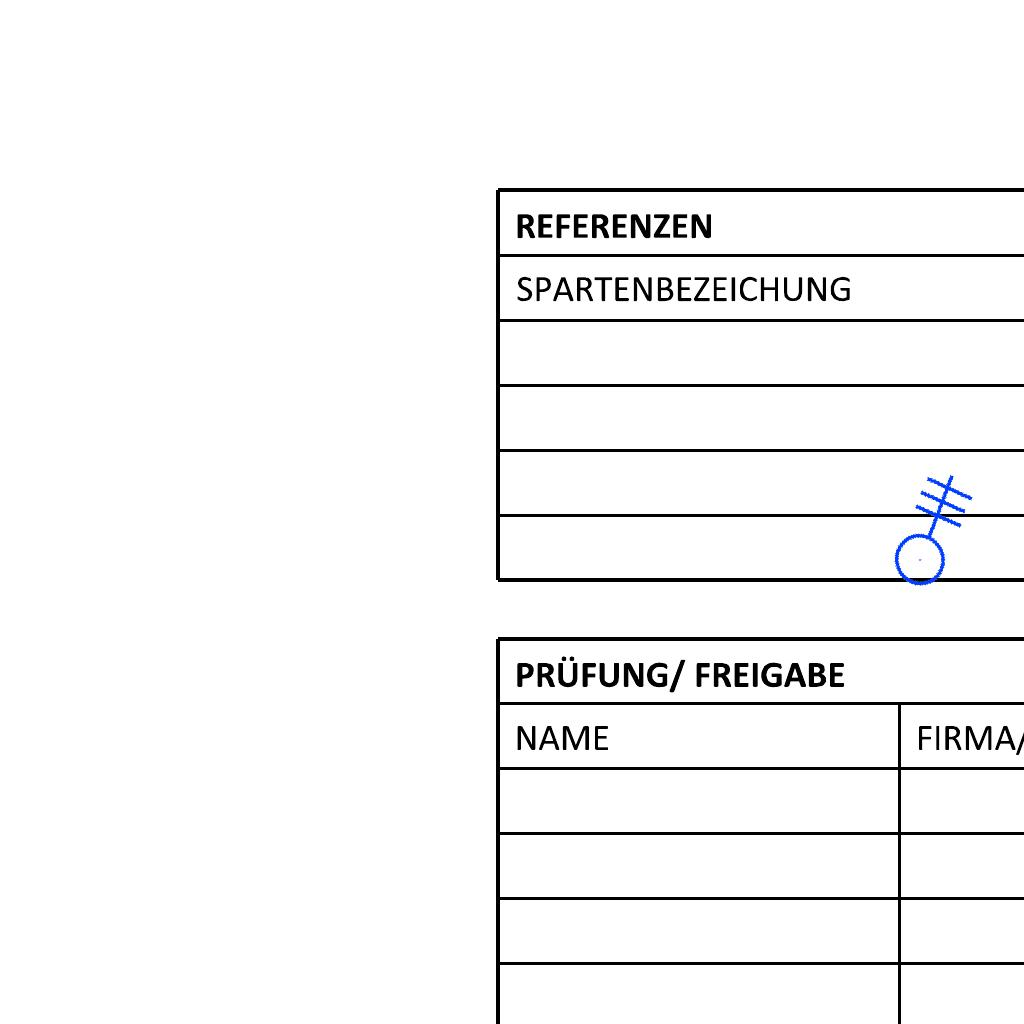Elektroanschluss_allgemein_400V_Geraeteanschlussdose_400V: (847, 451, 999, 602)
